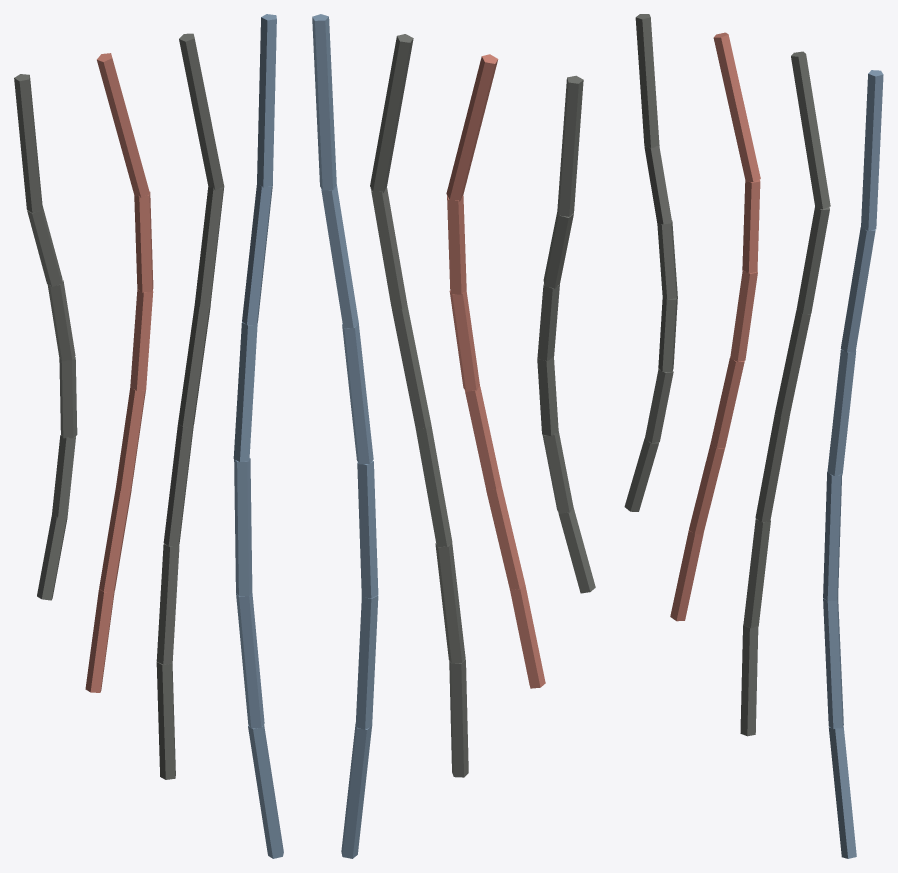
Rendered from lab_cables_hanging.glb.
The picture shows the model from 3 angles, left to right: view 1: azimuth 30°, elevation 25°; view 2: azimuth 150°, elevation 25°; view 3: azimuth 330°, elevation 25°; orthographic projection. The views are drawn at different scales.
Parts seen in each view (by area): view 1: lab_cables_hanging; view 2: lab_cables_hanging; view 3: lab_cables_hanging.
Part boxes in pixels (left/top/right/bottom): lab_cables_hanging: left=14, top=14, right=283, bottom=858; lab_cables_hanging: left=312, top=14, right=595, bottom=858; lab_cables_hanging: left=624, top=14, right=883, bottom=858.
Bounding box in the file's own units: 1.04 × 3.16 × 0.1787.
